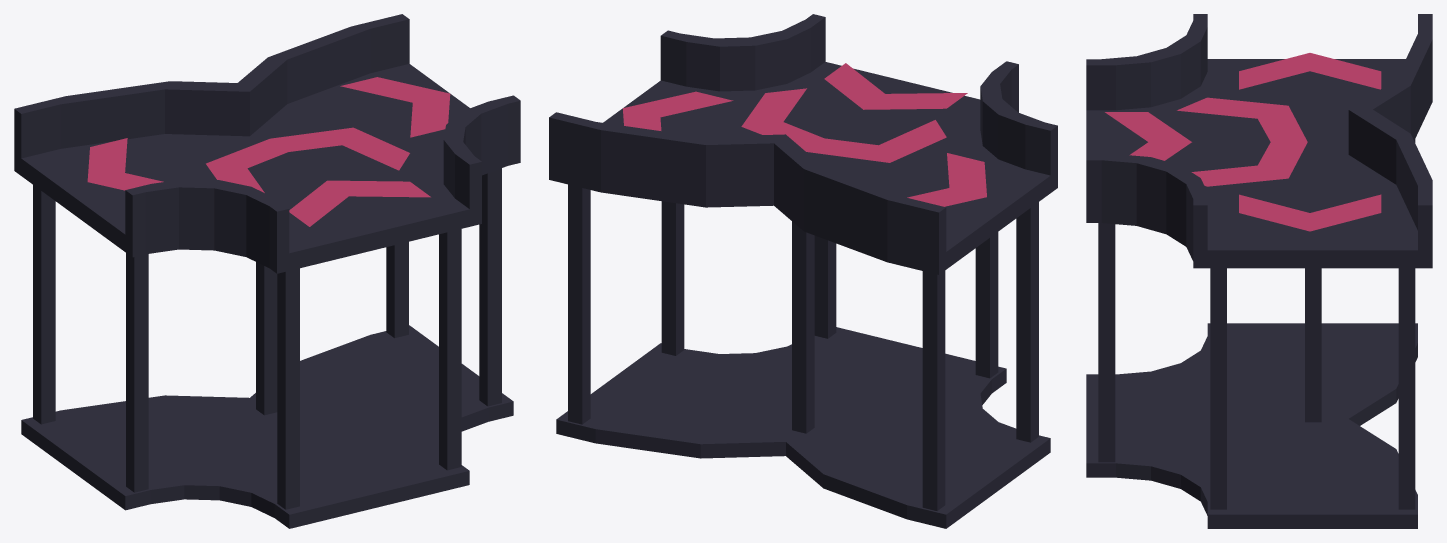
File: conv-split.glb
3 views of the same model, side by side, from view 1: azimuth 30°, elevation 25°; view 2: azimuth 150°, elevation 25°; view 3: azimuth 270°, elevation 25° (orthographic).
Visible parts, largest first — view 1: conv-split; view 2: conv-split; view 3: conv-split.
Part boxes in pixels (x1,y1,x2,y2): conv-split: (14, 14, 520, 528); conv-split: (549, 14, 1057, 528); conv-split: (1086, 14, 1432, 528).
Bounding box in the file's own units: 1 × 0.7882 × 0.764.
1 material, 1 textured.
